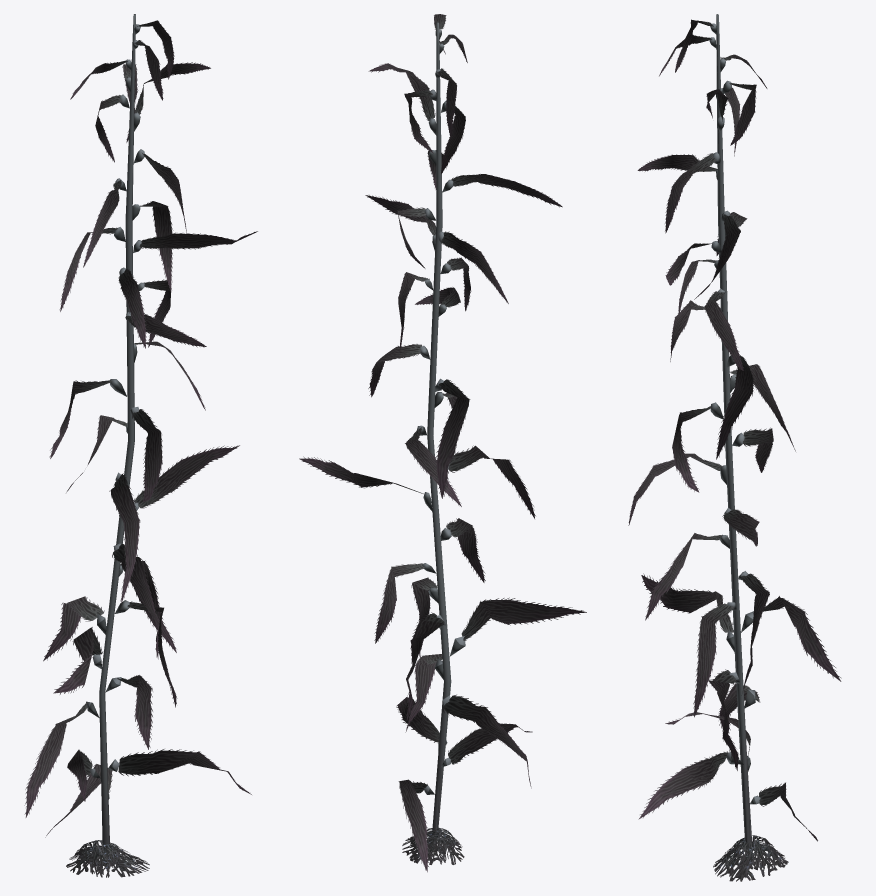
File: giant-kelp-c.fbx
3 views of the same model, side by side, from view 1: azimuth 30°, elevation 25°; view 2: azimuth 150°, elevation 25°; view 3: azimuth 270°, elevation 25° (orthographic). The views are drawn at different scales.
Parts seen in each view (by area): view 1: kelp_giant_c_leaves_lod0, kelp_giant_c_stem_lod0; view 2: kelp_giant_c_leaves_lod0, kelp_giant_c_stem_lod0; view 3: kelp_giant_c_leaves_lod0, kelp_giant_c_stem_lod0.
Part boxes in pixels (x1,y1,x2,y2): kelp_giant_c_leaves_lod0: [24, 20, 257, 877]; kelp_giant_c_stem_lod0: [86, 14, 144, 865]; kelp_giant_c_leaves_lod0: [299, 14, 586, 872]; kelp_giant_c_stem_lod0: [416, 22, 465, 852]; kelp_giant_c_leaves_lod0: [628, 19, 841, 881]; kelp_giant_c_stem_lod0: [709, 14, 760, 865].
Size of what is drawn, in the model's own units: 114 by 361 by 90.68.
1 material, 1 textured.
